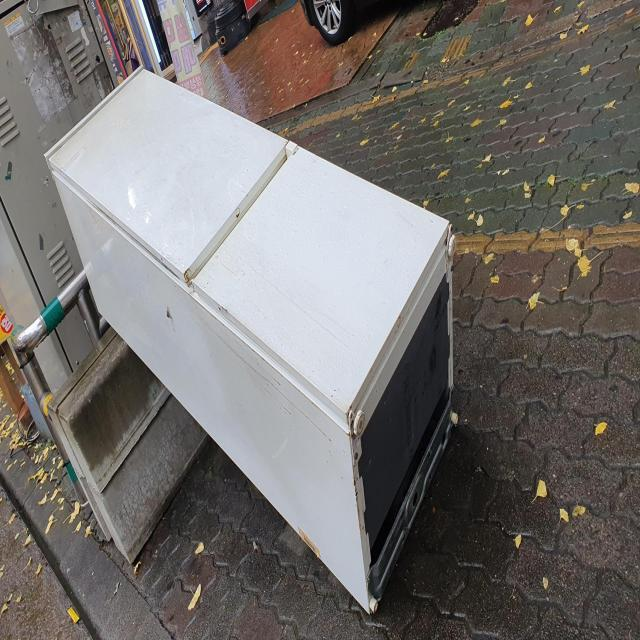refrigerator: (40, 54, 462, 620)
